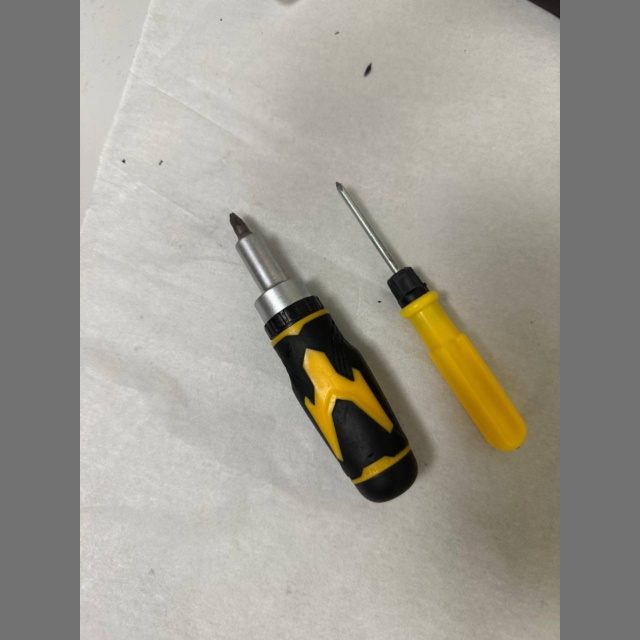screwdriver: (230, 213, 417, 502), (336, 183, 526, 451)
